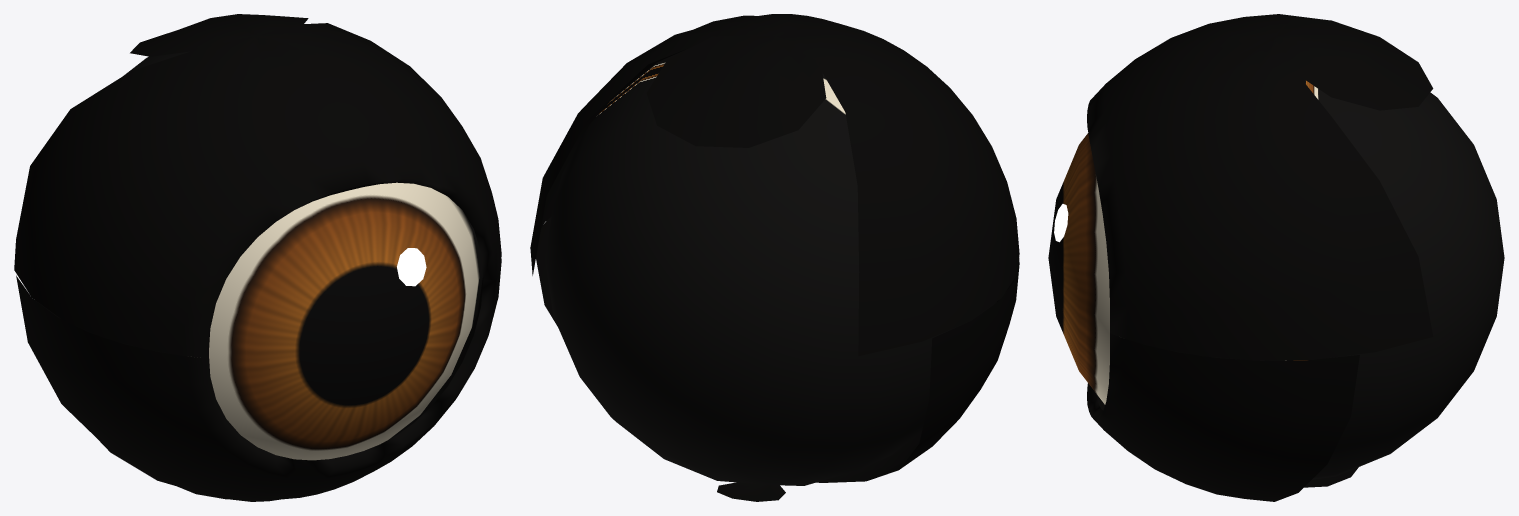
The model's file is goose_eye.glb.
The picture shows the model from 3 angles, left to right: view 1: azimuth 30°, elevation 25°; view 2: azimuth 150°, elevation 25°; view 3: azimuth 270°, elevation 25°; orthographic projection.
Parts seen in each view (by area): view 1: lid_upper, eyeball, lid_lower, catchlight; view 2: eyeball, lid_upper, lid_lower; view 3: lid_upper, eyeball, lid_lower.
Boxes of the visible parts, x1,y1,x2,y2 form: lid_upper: [14, 14, 501, 358]; eyeball: [36, 51, 482, 460]; lid_lower: [16, 259, 501, 501]; catchlight: [397, 248, 426, 286]; eyeball: [545, 47, 996, 485]; lid_upper: [530, 14, 1019, 356]; lid_lower: [536, 217, 1019, 501]; lid_upper: [1087, 14, 1433, 360]; eyeball: [1048, 76, 1504, 479]; lid_lower: [1087, 333, 1359, 501].
Size of the model in its own units: 0.0341 by 0.0342 by 0.032.
4 materials, 1 textured.
